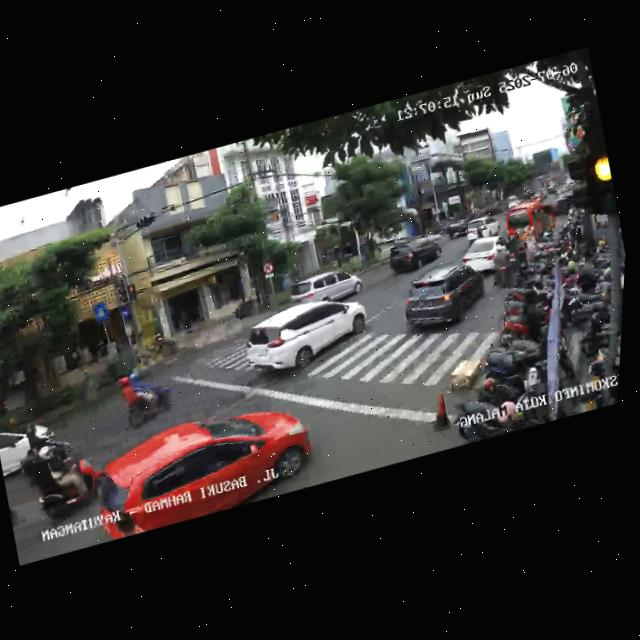car: (84, 389, 324, 542), (235, 286, 376, 390), (393, 257, 493, 341), (0, 403, 66, 484), (289, 262, 366, 309), (500, 195, 556, 250), (456, 227, 515, 278), (384, 231, 446, 279), (461, 211, 502, 245), (442, 216, 468, 240)
motorcycle: (16, 419, 110, 534), (110, 360, 180, 436), (483, 242, 520, 294)
